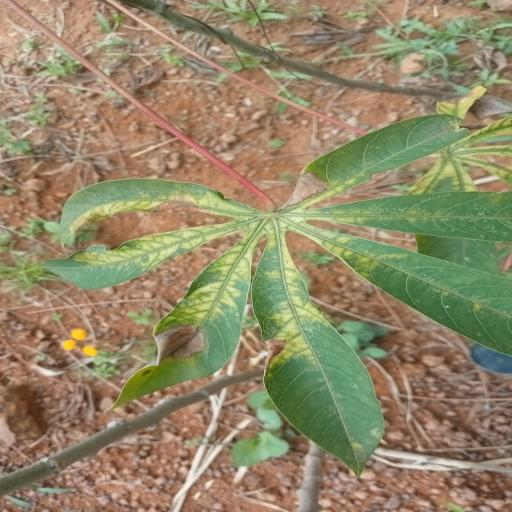Cassava_Mosaic: (33, 113, 512, 470)
